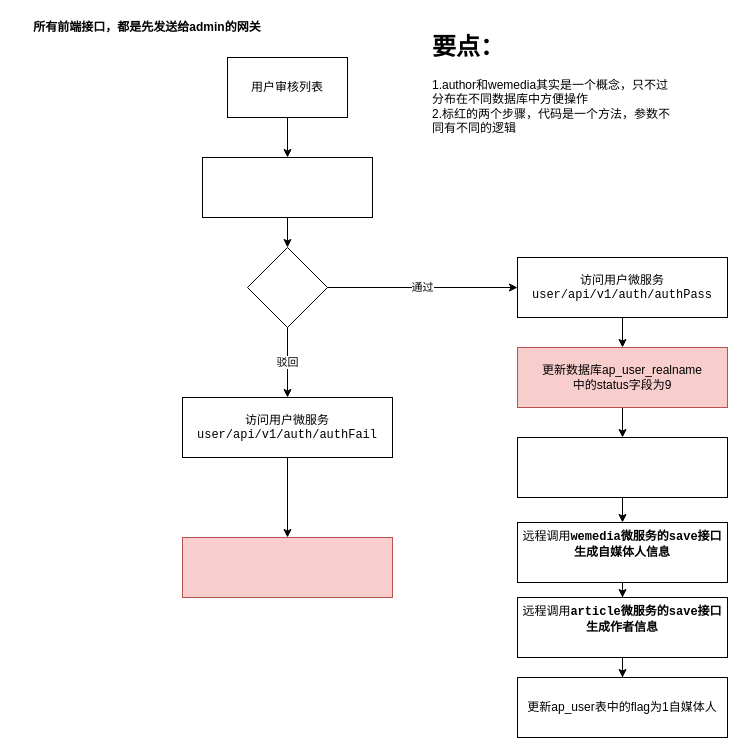
Image size: 745x755. Some labels were removed from this diagram. The shapes that lost their labels are listed below. From the top down, each one's centre as x and y in pixels, then its label:
point (287, 187): 访问用户微服务user/api/v1/auth/list 获取列表信息
point (287, 287): 审核操作
point (622, 467): 根据ap_user_realname中的user_id，查询ap_user表的数据
point (287, 567): 更新数据库ap_user_realname 中的status字段为2和拒绝原因
